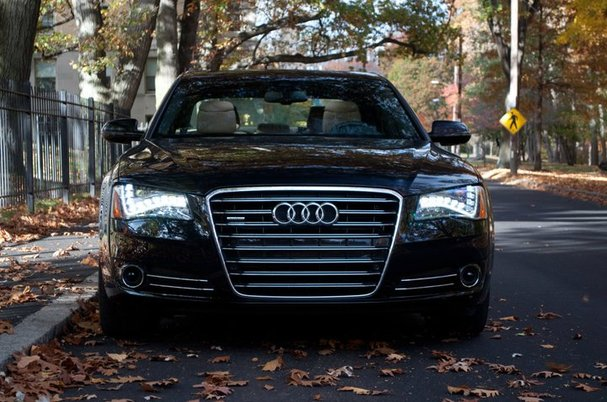audi: (267, 201, 340, 227)
